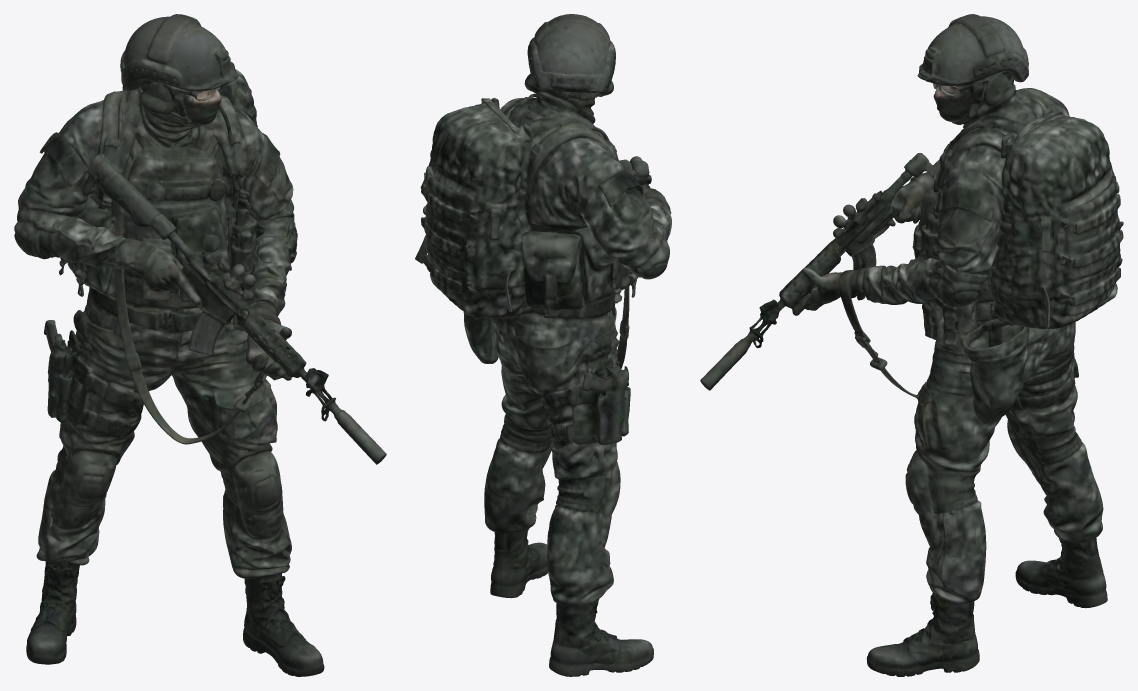
The model's file is enemy.glb.
3 views of the same model, side by side, from view 1: azimuth 30°, elevation 25°; view 2: azimuth 150°, elevation 25°; view 3: azimuth 270°, elevation 25° (orthographic). The views are drawn at different scales.
Bounding box in the file's own units: 0.7988 × 1.9 × 1.19.
1 material, 1 textured.
